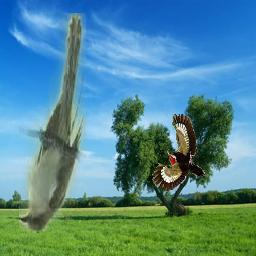Cuckoo: (20, 13, 87, 231)
Woodpecker: (151, 114, 205, 192)
